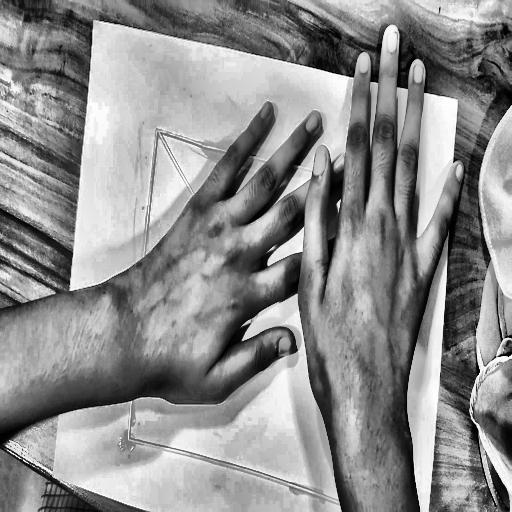bottom_left: (49, 470, 57, 483)
envelop: (119, 123, 413, 512)
top_left: (91, 14, 98, 27)
top_right: (454, 95, 461, 106)
